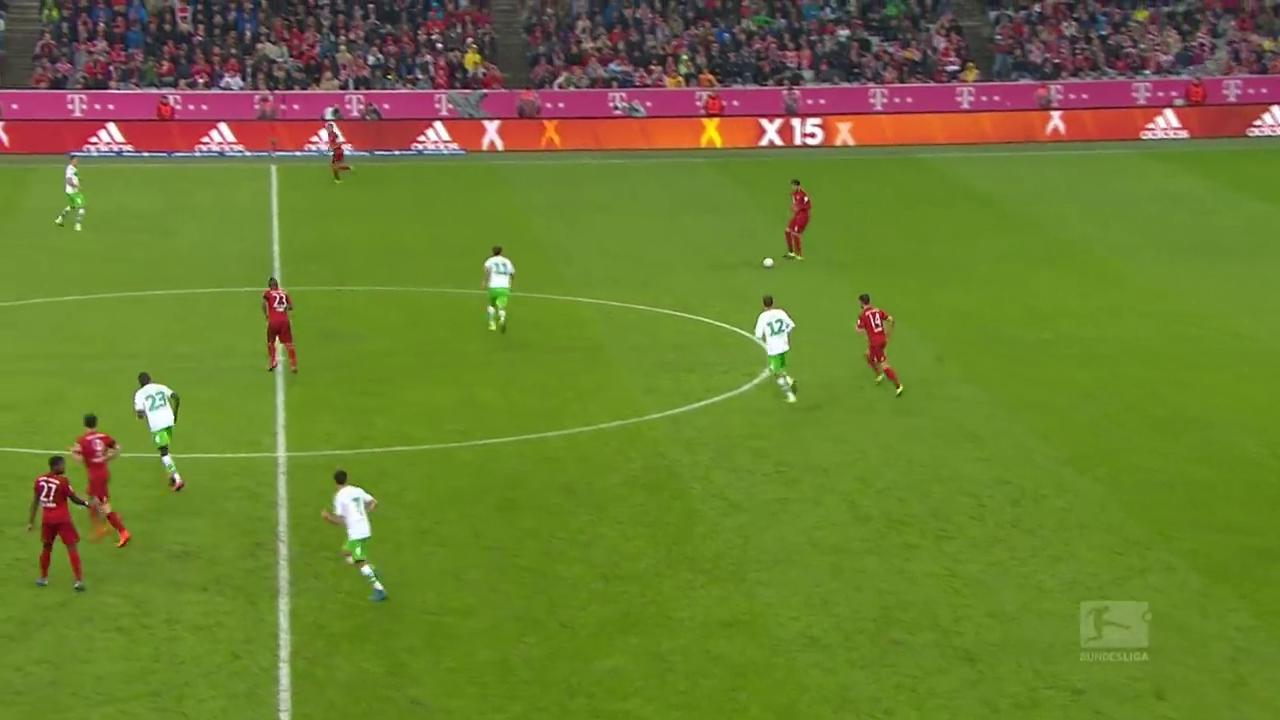ball: (757, 255, 776, 270)
player: (315, 465, 394, 605), (19, 453, 91, 592), (67, 412, 134, 551), (133, 361, 185, 497), (849, 289, 913, 398), (754, 294, 809, 410), (257, 274, 302, 376), (477, 240, 519, 337), (51, 153, 87, 233), (782, 175, 814, 263), (320, 124, 356, 184)
